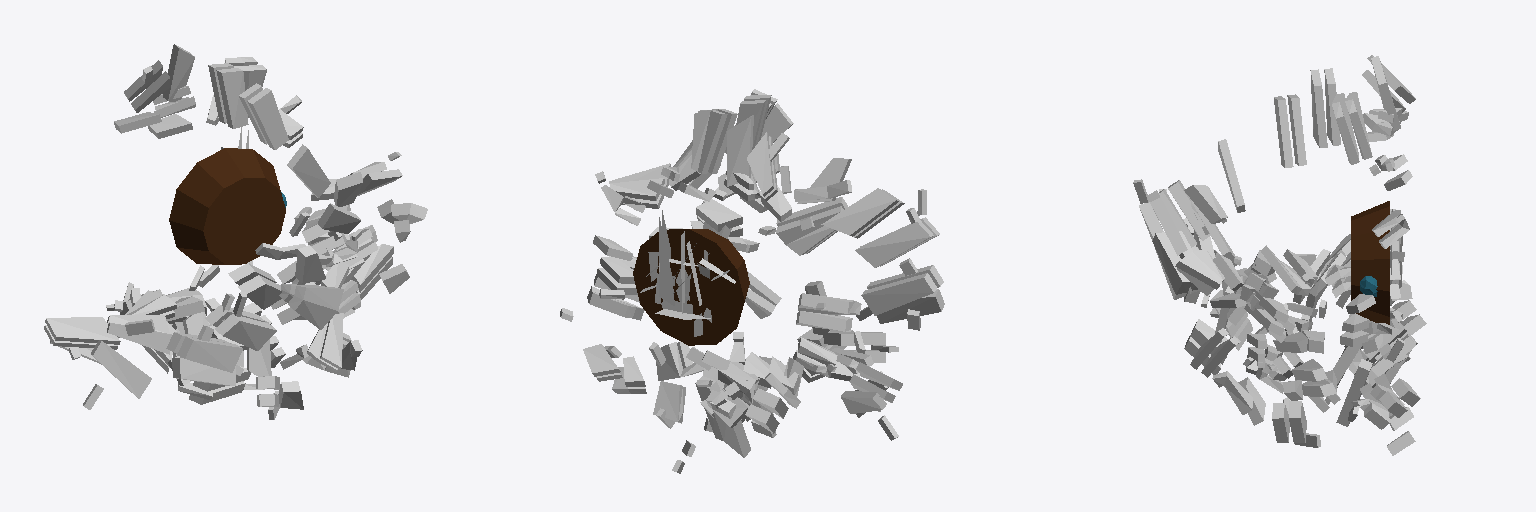
3 views of the same model, side by side, from view 1: azimuth 30°, elevation 25°; view 2: azimuth 150°, elevation 25°; view 3: azimuth 270°, elevation 25° (orthographic).
Visible parts, largest first — view 1: Cone.001_Cone.001_cover, Cone_Cone_cover, Cylinder_Cylinder_Material.001; view 2: Cone_Cone_cover, Cone.001_Cone.001_cover, Cylinder_Cylinder_Material.001, Plane_Plane_Material.003; view 3: Cone_Cone_cover, Cone.001_Cone.001_cover, Cylinder_Cylinder_Material.001, Plane_Plane_Material.003.
Boxes of the visible parts, x1,y1,x2,y2 form: Cone.001_Cone.001_cover: [44, 44, 402, 409]; Cone_Cone_cover: [120, 172, 427, 419]; Cylinder_Cylinder_Material.001: [169, 148, 285, 264]; Cone_Cone_cover: [560, 140, 944, 473]; Cone.001_Cone.001_cover: [593, 89, 926, 440]; Cylinder_Cylinder_Material.001: [633, 229, 749, 345]; Plane_Plane_Material.003: [640, 210, 735, 336]; Cone_Cone_cover: [1139, 180, 1426, 455]; Cone.001_Cone.001_cover: [1133, 55, 1415, 418]; Cylinder_Cylinder_Material.001: [1351, 201, 1389, 324]; Plane_Plane_Material.003: [1390, 209, 1412, 305].
Bounding box in the file's own units: 3.35 × 3.51 × 2.53.
4 materials, 1 textured.